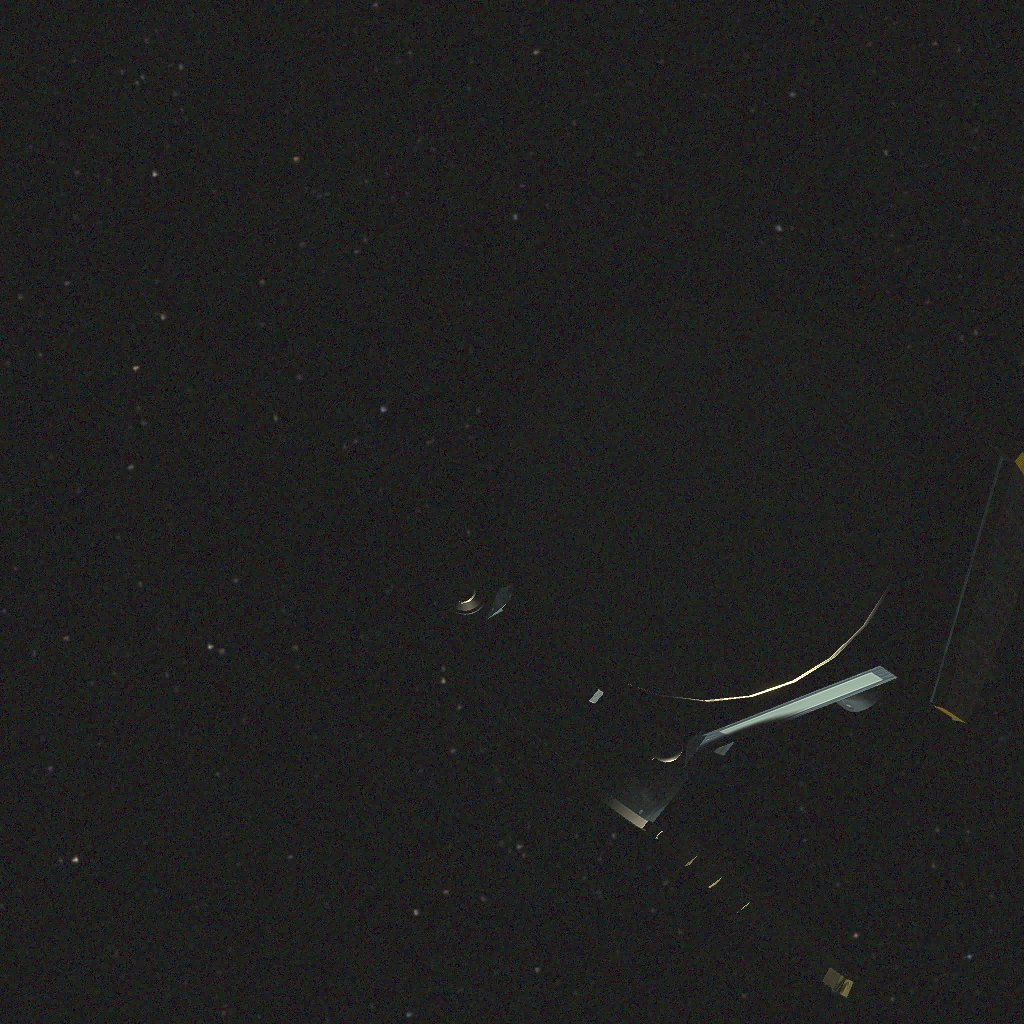cheops: (432, 187, 1024, 998)
